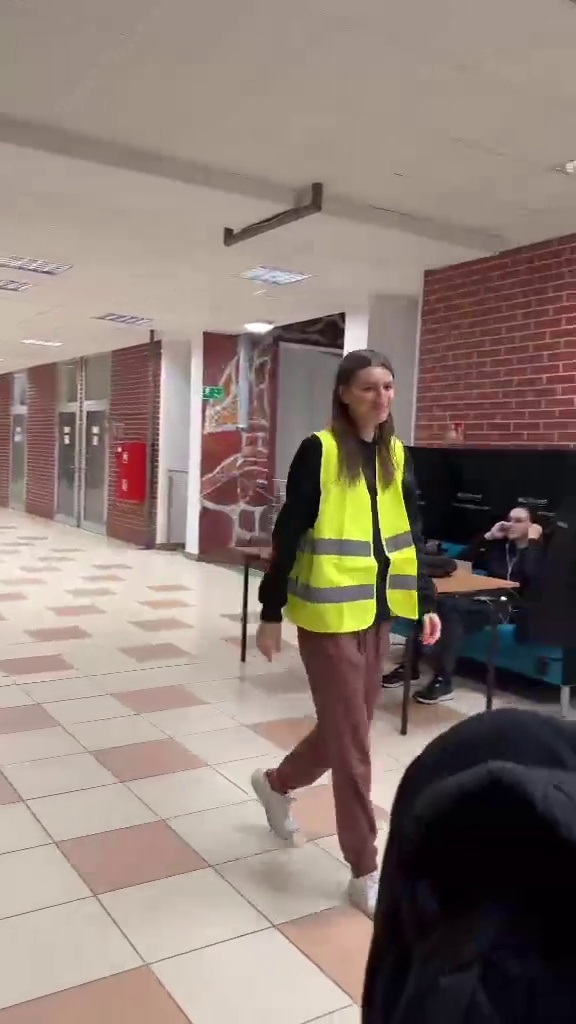no vest: (402, 483, 572, 710)
vest: (254, 353, 446, 920)
